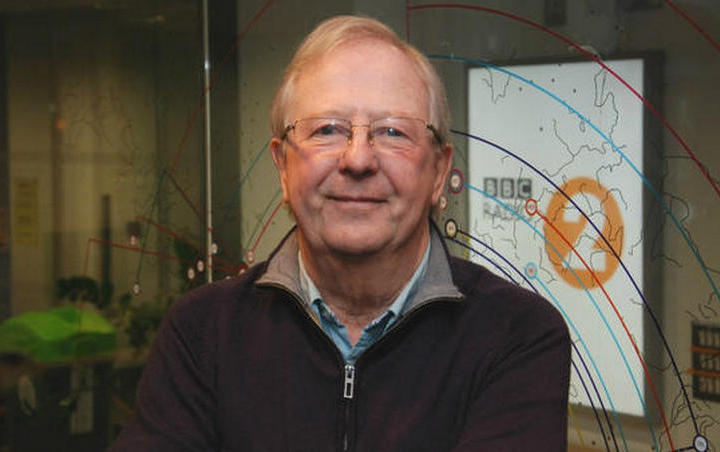bad: (287, 81, 442, 236)
